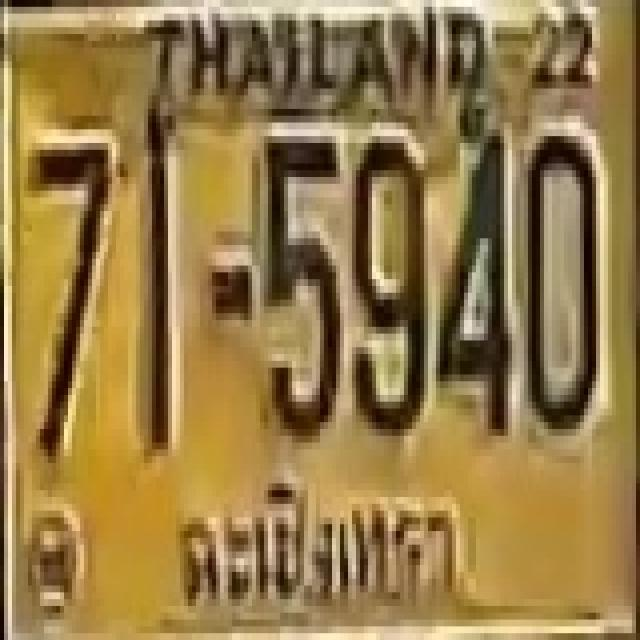0: (524, 129, 596, 422)
1: (141, 124, 189, 462)
4: (432, 122, 508, 429)
5: (260, 133, 336, 432)
7: (28, 136, 108, 456)
9: (348, 136, 424, 429)
CCO: (165, 473, 474, 620)
